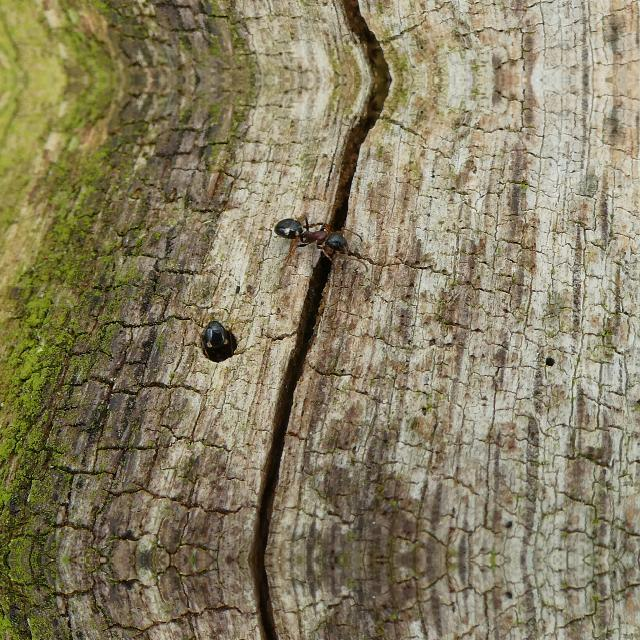Dolichoderus: (257, 204, 369, 264), (162, 304, 242, 370)
